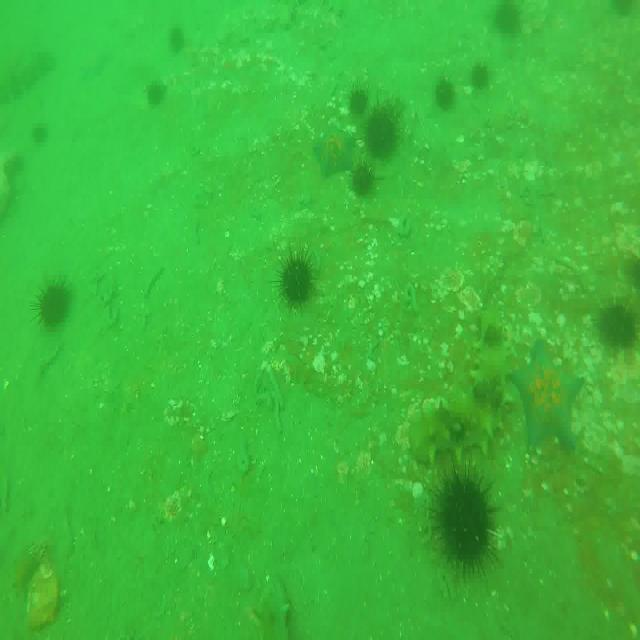echinus: (434, 466, 492, 572), (594, 296, 638, 356), (366, 104, 400, 166), (283, 253, 314, 310), (35, 286, 74, 326), (495, 0, 524, 43), (351, 160, 379, 196), (433, 78, 458, 112), (168, 28, 190, 61), (348, 85, 370, 116), (30, 118, 50, 150), (470, 66, 491, 96), (147, 80, 167, 108)
holothurian: (412, 305, 511, 470)
starfish: (510, 336, 583, 456), (314, 126, 358, 185), (82, 41, 109, 81)
